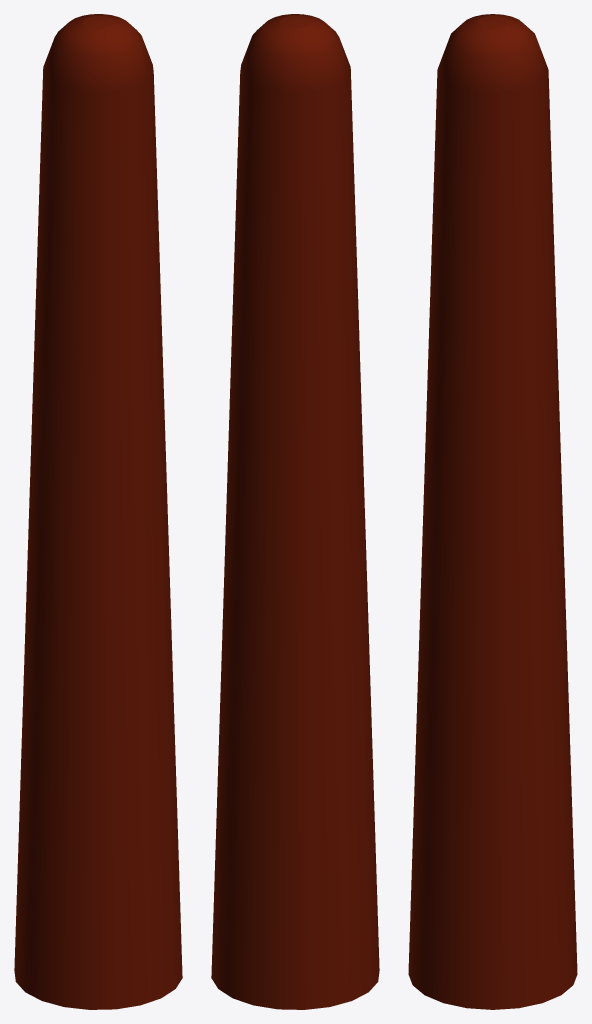
File: wandfinished.fbx
3 renders of one model, left to right at view 1: azimuth 30°, elevation 25°; view 2: azimuth 150°, elevation 25°; view 3: azimuth 270°, elevation 25°, orthographic.
Parts seen in each view (by area): view 1: pCylinder1; view 2: pCylinder1; view 3: pCylinder1.
Boxes of the visible parts, box(x1,y1,x2,y2) form: pCylinder1: box(14, 14, 182, 1009); pCylinder1: box(211, 14, 379, 1009); pCylinder1: box(408, 14, 577, 1009).
Bounding box in the file's own units: 3.04 × 18.95 × 3.04.
